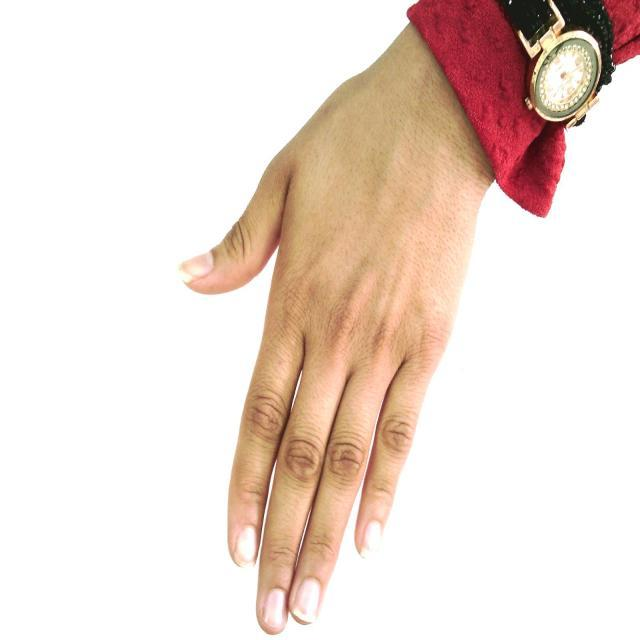Fingernail: (293, 578, 320, 622), (179, 252, 212, 284), (235, 526, 257, 568), (265, 589, 287, 628), (362, 521, 381, 561)
